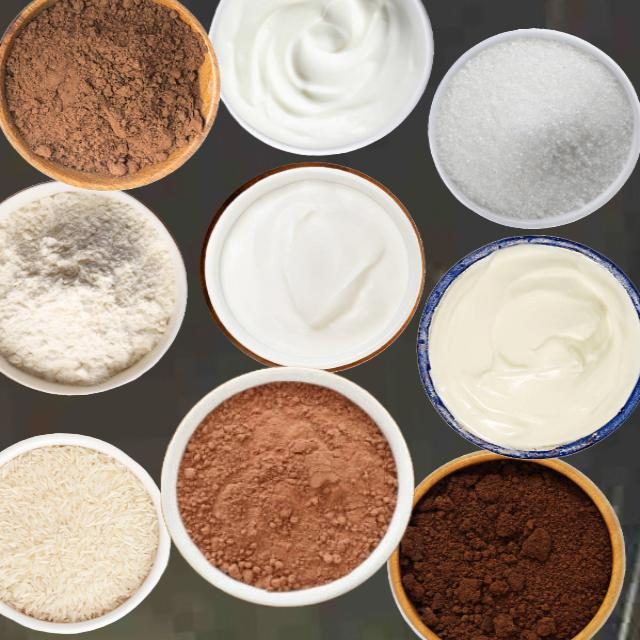Cocoa: (175, 379, 398, 592), (0, 0, 218, 188)
Coffee: (398, 457, 614, 639)
Flour: (0, 190, 175, 385)
Sugar: (432, 35, 633, 219)
